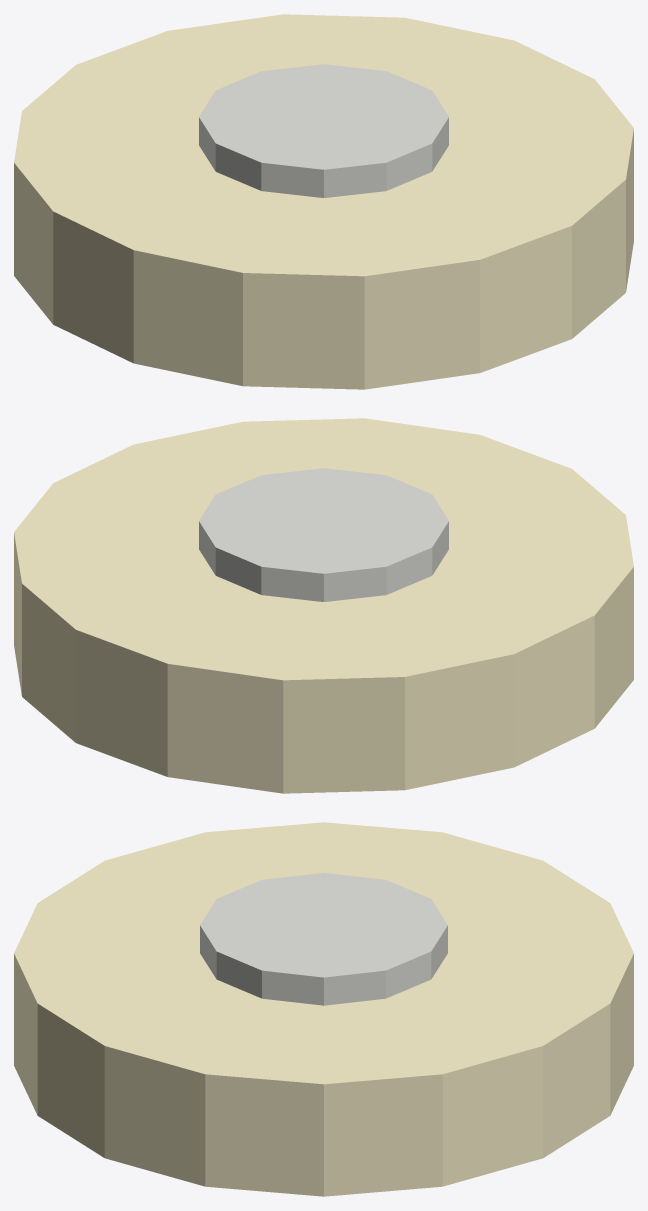
Rendered from ceiling light.glb.
3 renders of one model, top to bottom at view 1: azimuth 30°, elevation 25°; view 2: azimuth 150°, elevation 25°; view 3: azimuth 270°, elevation 25°, orthographic.
Visible parts, largest first — view 1: ceiling light; view 2: ceiling light; view 3: ceiling light.
Boxes of the visible parts, bbox=[...] form: ceiling light: bbox=[14, 14, 633, 389]; ceiling light: bbox=[14, 418, 633, 793]; ceiling light: bbox=[14, 822, 633, 1196].
Size of the model in its own units: 0.4 by 0.1 by 0.4.
